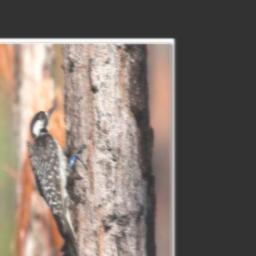Woodpecker: (22, 97, 94, 256)
